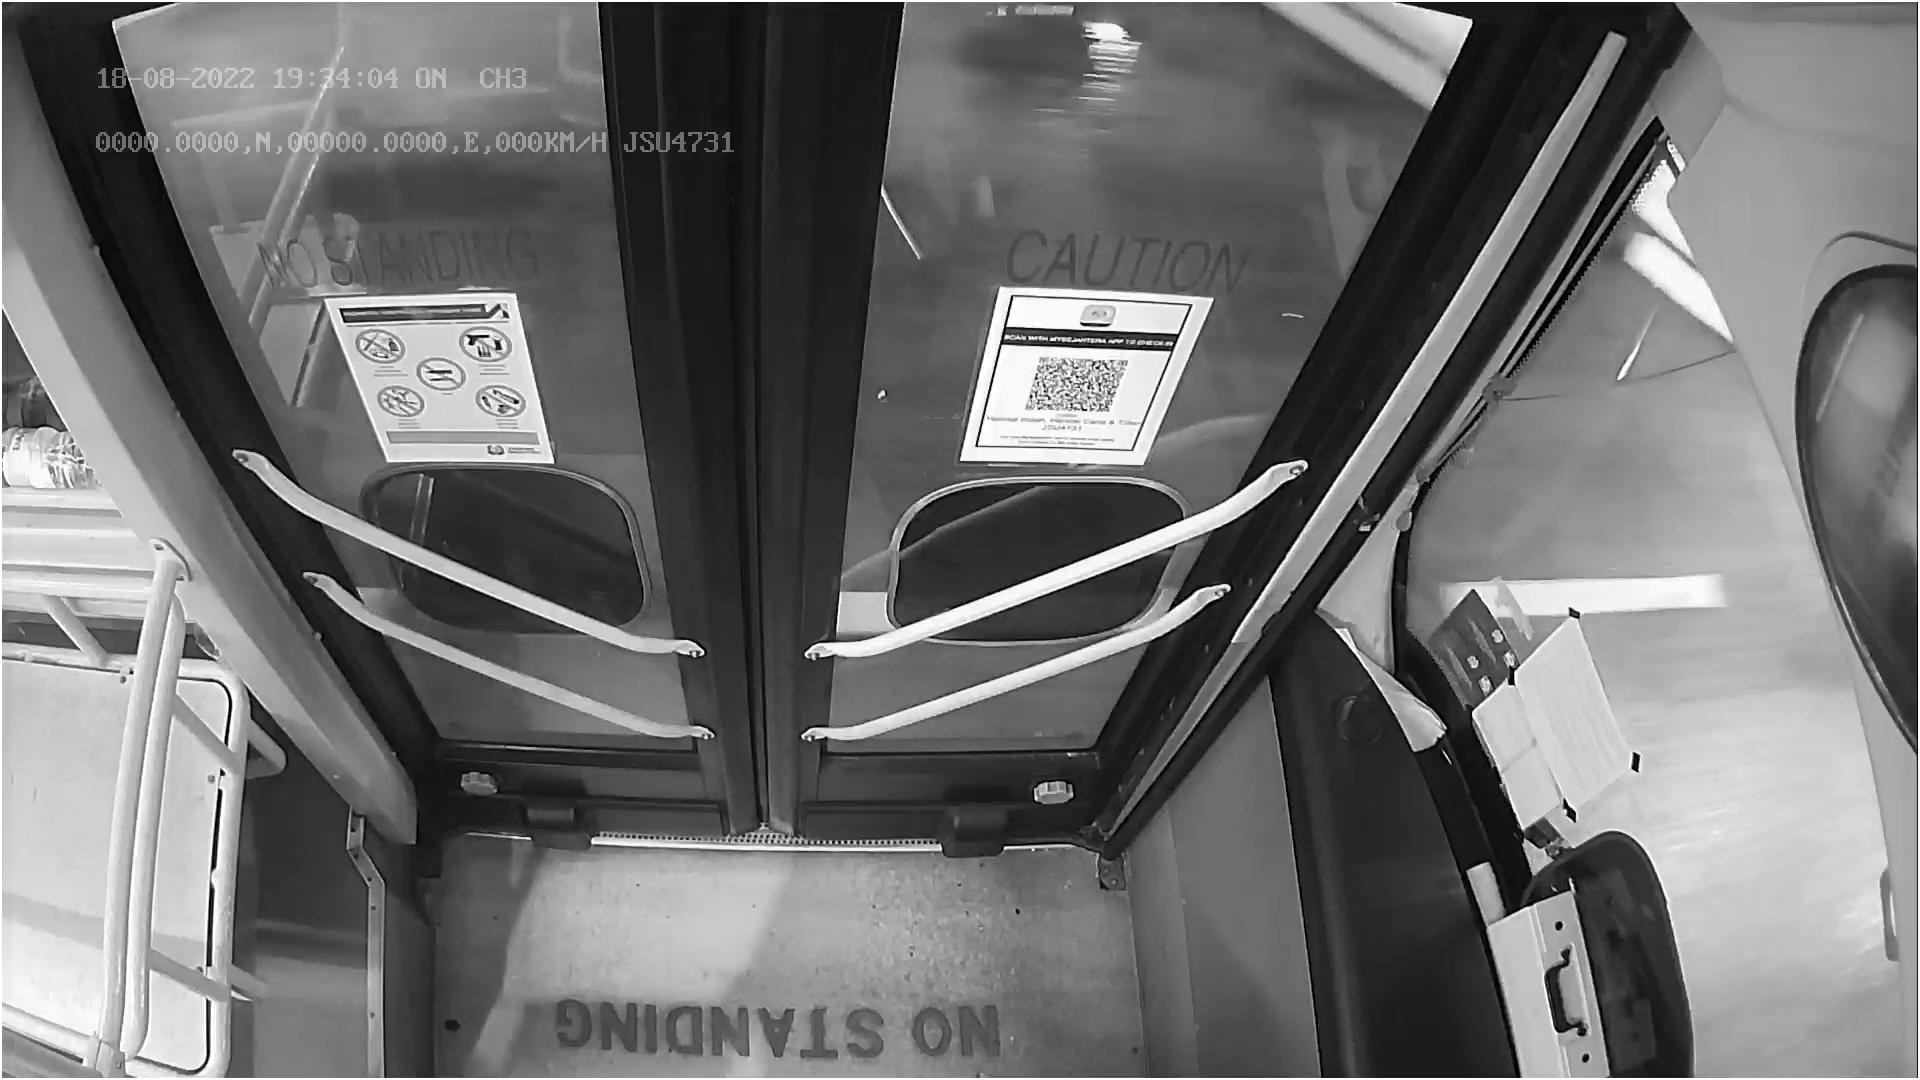close: (128, 0, 1453, 162)
